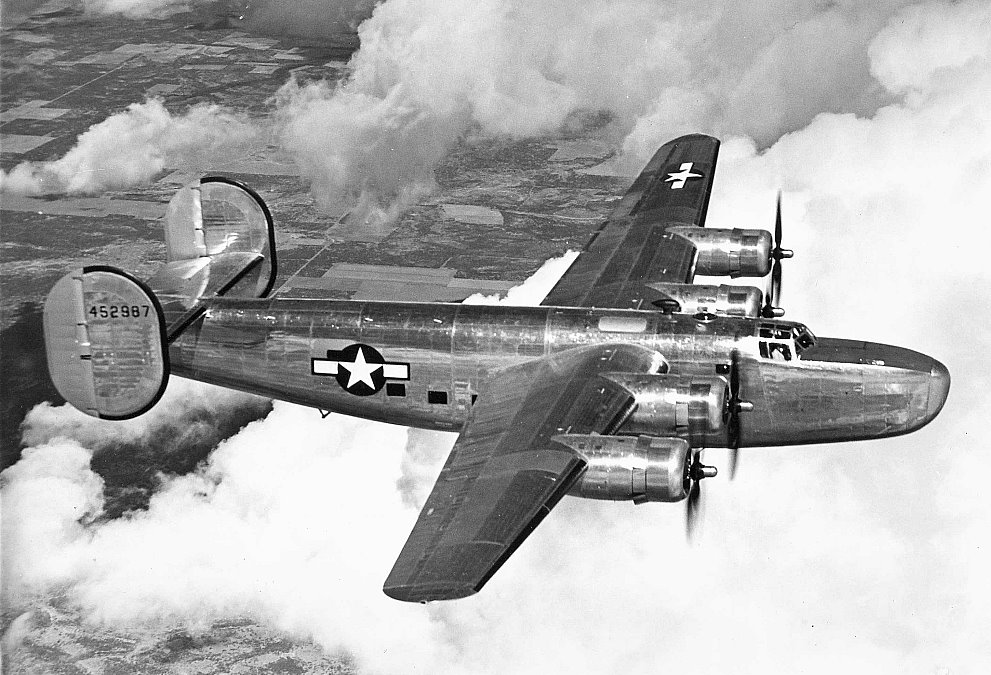Aeronef_militaire: (37, 132, 975, 610)
